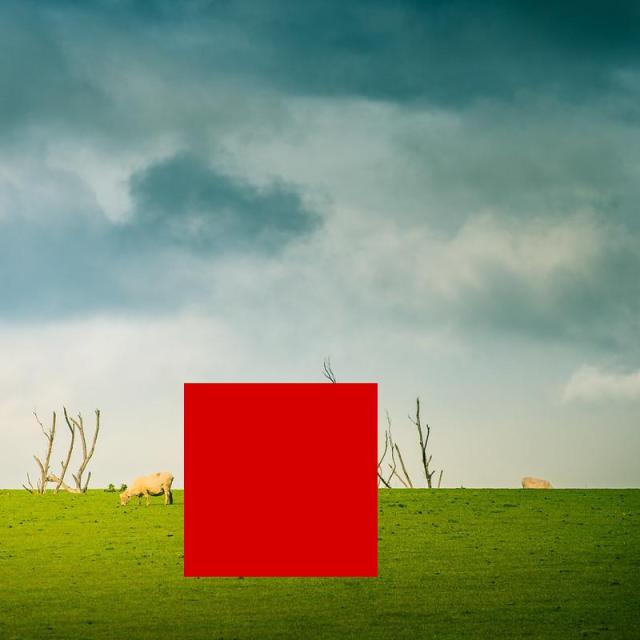RedSquare: (170, 376, 386, 585)
